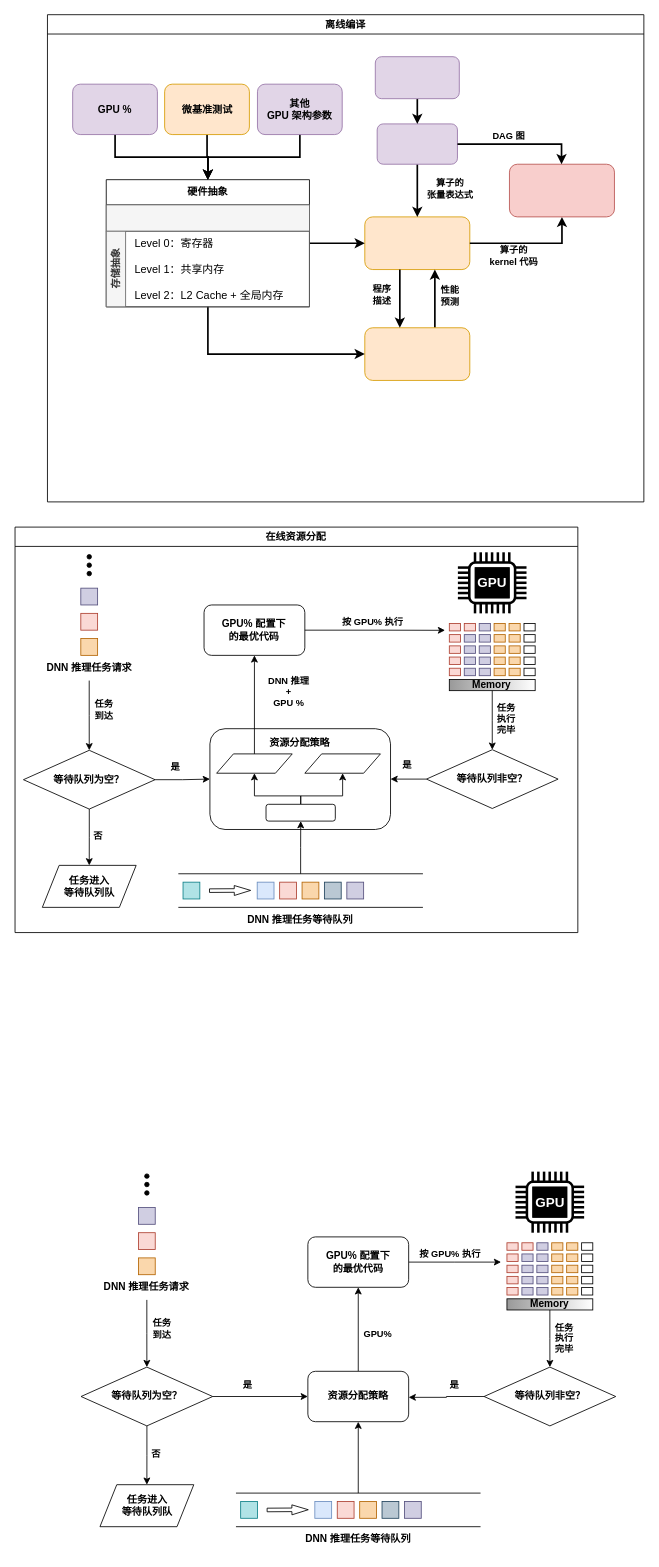
The diagram is 659 pixels wide and 1567 high, and some of its shapes have lost their labels. The shapes that lost their labels are listed below. From the top down, each one's centre as x and y in pixels, then its label:
At [416,77]: "DNN 模型".
At [416,143]: "由 TVM 生成 DAG 抽象".
At [561,190]: "DNN 模型的 底层代码实现".
At [207,217]: "执行单元：SM Processing Block".
At [417,243]: "生成硬件对齐 kernel 的构造算法".
At [417,353]: "微性能模型".
At [254,763]: "立即执行".
At [342,763]: "继续等待".
At [300,812]: "决策器".
